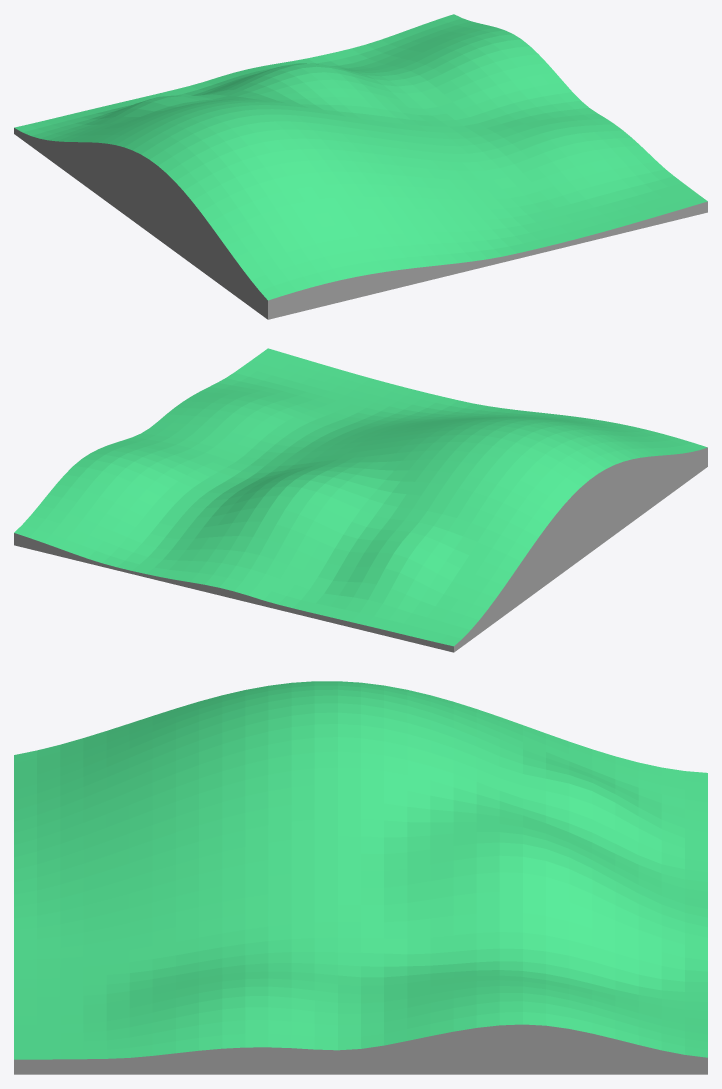
The model's file is Terrain.obj.
The picture shows the model from 3 angles, top to bottom: view 1: azimuth 30°, elevation 25°; view 2: azimuth 150°, elevation 25°; view 3: azimuth 270°, elevation 25°; orthographic projection. The views are drawn at different scales.
Visible parts, largest first — view 1: Terrain; view 2: Terrain; view 3: Terrain.
Boxes of the visible parts, <box> form: Terrain: <box>14,14,707,319</box>; Terrain: <box>14,348,707,652</box>; Terrain: <box>14,681,707,1074</box>.
Size of the model in its own units: 30 by 6.09 by 30.
